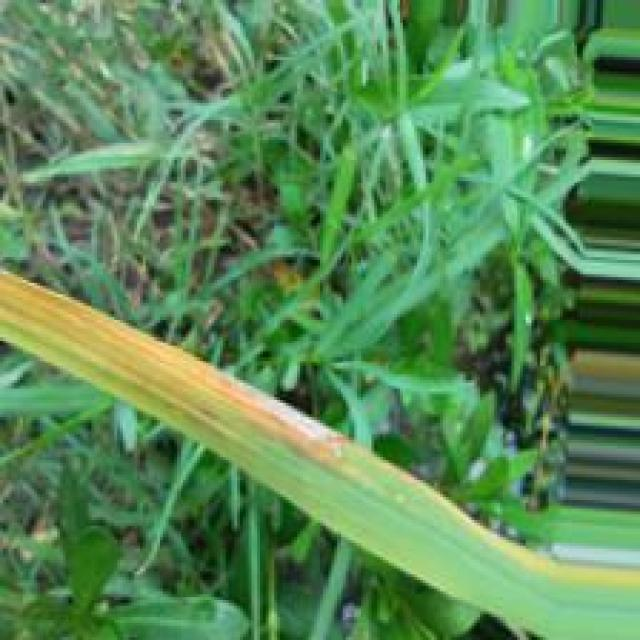Leaf_Blast: (215, 374, 382, 489)
